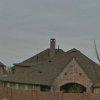Chimney: (44, 33, 61, 58)
